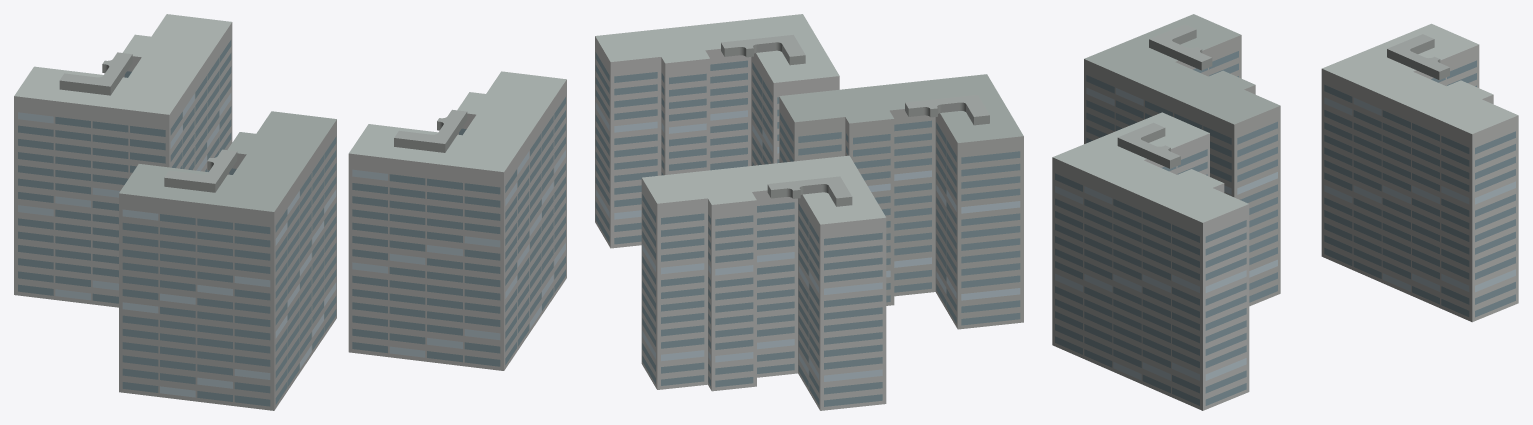
The model's file is residual-five-completion-apt-a10025675.glb.
3 renders of one model, left to right at view 1: azimuth 30°, elevation 25°; view 2: azimuth 150°, elevation 25°; view 3: azimuth 270°, elevation 25°, orthographic. The views are drawn at different scales.
Parts seen in each view (by area): view 1: residual-five-completion-apt-a10025675; view 2: residual-five-completion-apt-a10025675; view 3: residual-five-completion-apt-a10025675.
Boxes of the visible parts, box(x1,y1,x2,y2) form: residual-five-completion-apt-a10025675: box(14, 14, 566, 410); residual-five-completion-apt-a10025675: box(595, 14, 1023, 410); residual-five-completion-apt-a10025675: box(1052, 14, 1518, 410).
Size of the model in its own units: 109 by 47.81 by 103.
